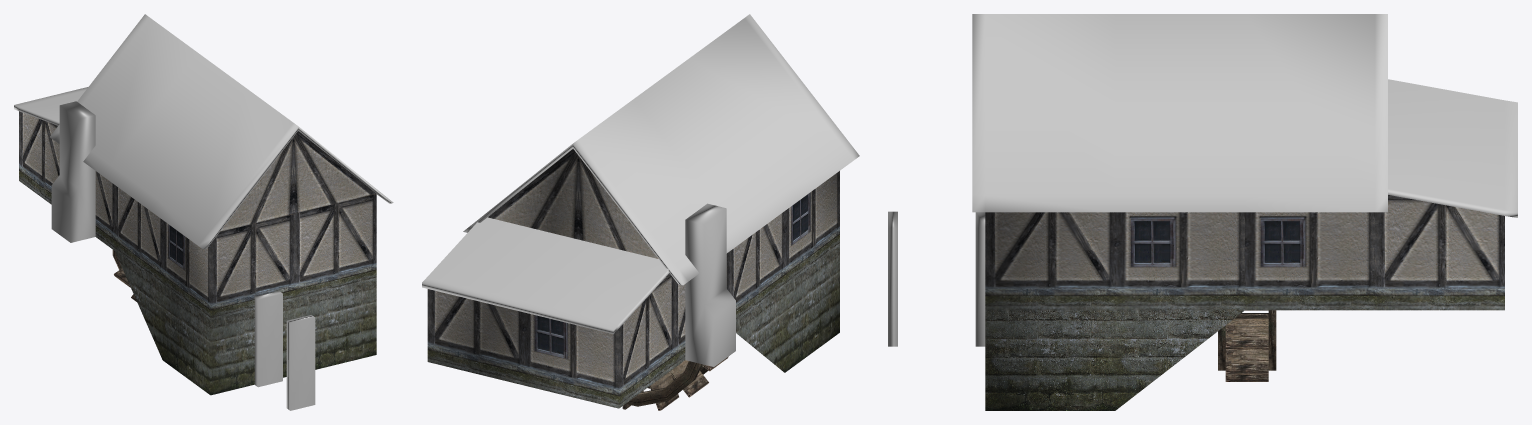
The model's file is muehle_01.fbx.
3 views of the same model, side by side, from view 1: azimuth 30°, elevation 25°; view 2: azimuth 150°, elevation 25°; view 3: azimuth 270°, elevation 25° (orthographic). The views are drawn at different scales.
Visible parts, largest first — view 1: Mesh; view 2: Mesh, Mesh_ncl1_1; view 3: Mesh, Mesh_ncl1_1.
Boxes of the visible parts, x1=… form: Mesh: x1=14, y1=14, x2=393, y2=410; Mesh: x1=422, y1=14, x2=859, y2=408; Mesh_ncl1_1: x1=622, y1=356, x2=728, y2=410; Mesh: x1=888, y1=14, x2=1517, y2=410; Mesh_ncl1_1: x1=1218, y1=310, x2=1276, y2=381.
Size of the model in its own units: 687 by 849 by 1360.
